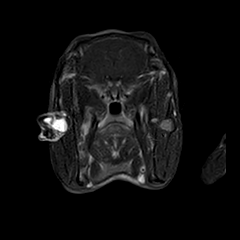Brain: (64, 3, 163, 101)
